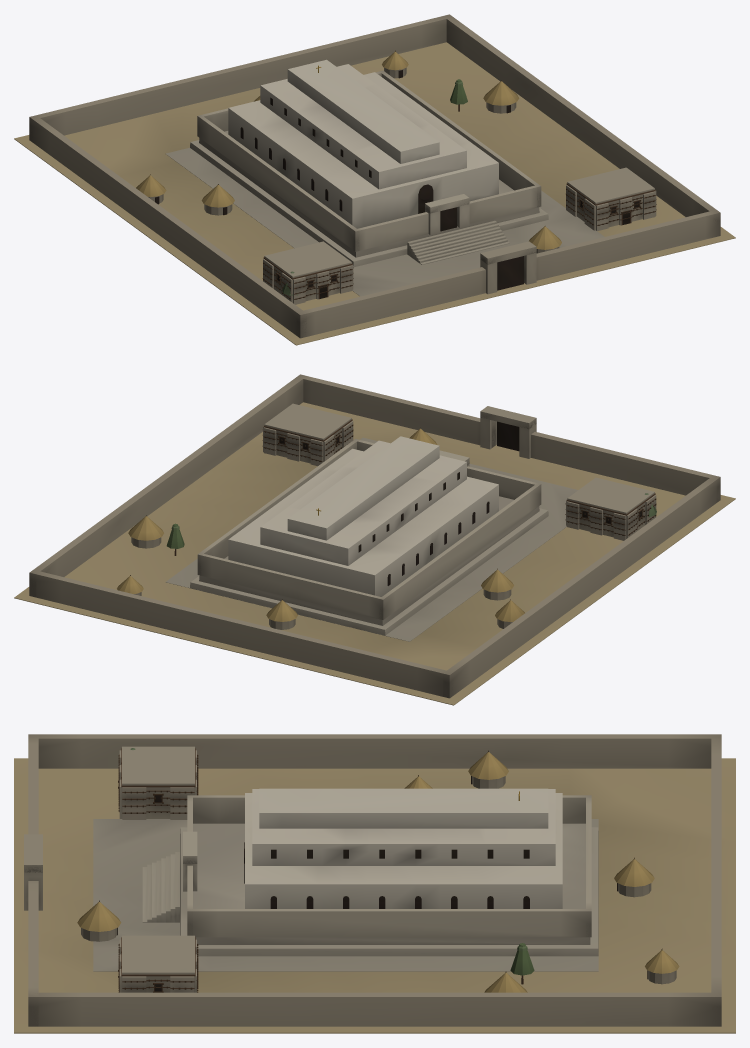
File: mary-of-zion-1500.glb
The picture shows the model from 3 angles, top to bottom: view 1: azimuth 30°, elevation 25°; view 2: azimuth 150°, elevation 25°; view 3: azimuth 270°, elevation 25°; orthographic projection. The views are drawn at different scales.
Visible parts, largest first — view 1: p1_precinct, p0_podium, p2_church, p3_roofs; view 2: p1_precinct, p0_podium, p2_church, p3_roofs; view 3: p0_podium, p1_precinct, p2_church, p3_roofs.
Part boxes in pixels (<box>): p1_precinct: <box>29,14,720,338</box>; p0_podium: <box>14,42,735,345</box>; p2_church: <box>228,59,498,228</box>; p3_roofs: <box>136,50,656,304</box>; p1_precinct: <box>29,374,720,698</box>; p0_podium: <box>14,402,735,705</box>; p2_church: <box>228,436,498,596</box>; p3_roofs: <box>117,403,656,629</box>; p0_podium: <box>14,758,735,1033</box>; p1_precinct: <box>24,734,721,1026</box>; p2_church: <box>244,788,562,908</box>; p3_roofs: <box>77,746,679,992</box>.
Size of the model in its own units: 90 by 16.04 by 100.
